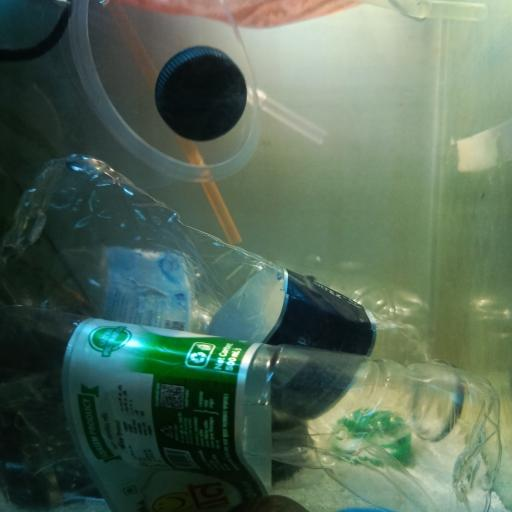bottle_cap: (154, 44, 247, 142)
plastic_bottle: (3, 150, 475, 435), (0, 302, 502, 512), (43, 243, 430, 352)
plastic_cup: (1, 0, 264, 219)
plastic_straw: (110, 4, 245, 246), (245, 90, 329, 143)
